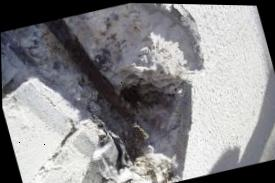exposed_rebar: (45, 18, 129, 119), (125, 141, 138, 158)
spalling: (1, 3, 204, 183)
